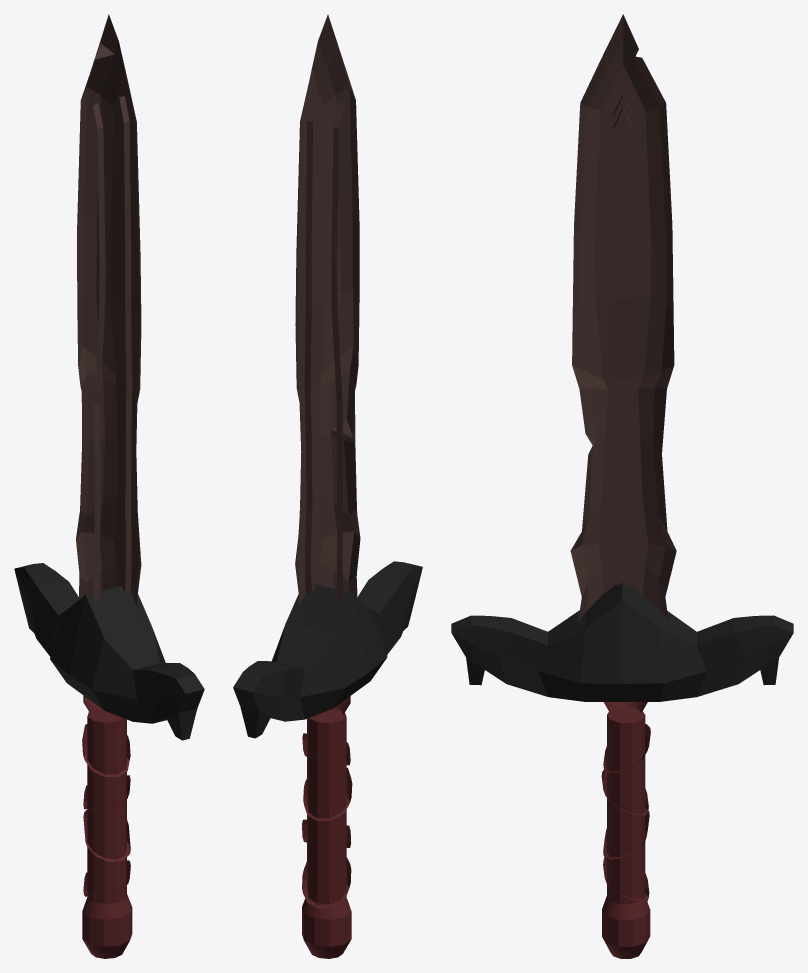
Rendered from swordlowpoly (2).fbx.
3 views of the same model, side by side, from view 1: azimuth 30°, elevation 25°; view 2: azimuth 150°, elevation 25°; view 3: azimuth 270°, elevation 25° (orthographic).
Visible parts, largest first — view 1: Cylinder; view 2: Cylinder; view 3: Cylinder.
Part boxes in pixels (bbox=[...]): Cylinder: bbox=[14, 14, 204, 958]; Cylinder: bbox=[233, 14, 422, 958]; Cylinder: bbox=[451, 14, 793, 958].
Size of the model in its own units: 60.77 by 677 by 224.
